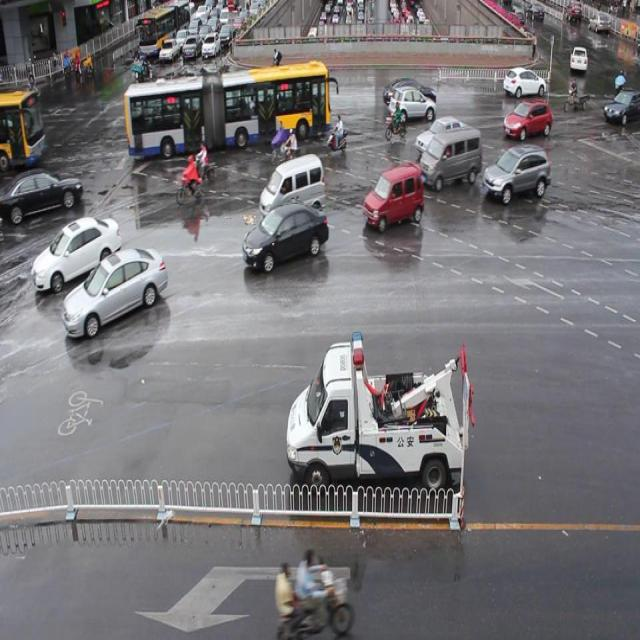bus: (286, 328, 474, 494)
car: (64, 246, 167, 335), (32, 216, 121, 290), (242, 203, 329, 268), (1, 168, 83, 224), (483, 145, 550, 198), (363, 166, 423, 224), (415, 116, 475, 155), (502, 96, 552, 140), (388, 87, 435, 122), (271, 70, 318, 105), (383, 78, 436, 109), (502, 66, 545, 98)
truck: (259, 155, 324, 217), (419, 130, 482, 189)
van: (124, 60, 332, 151)
